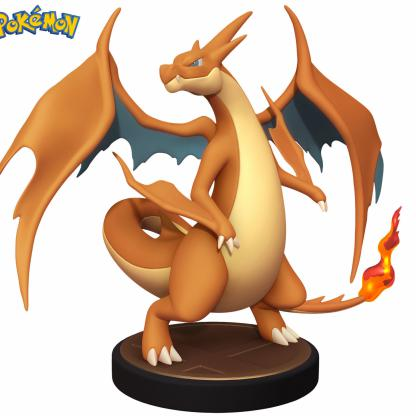Charizard: (1, 1, 414, 351)
